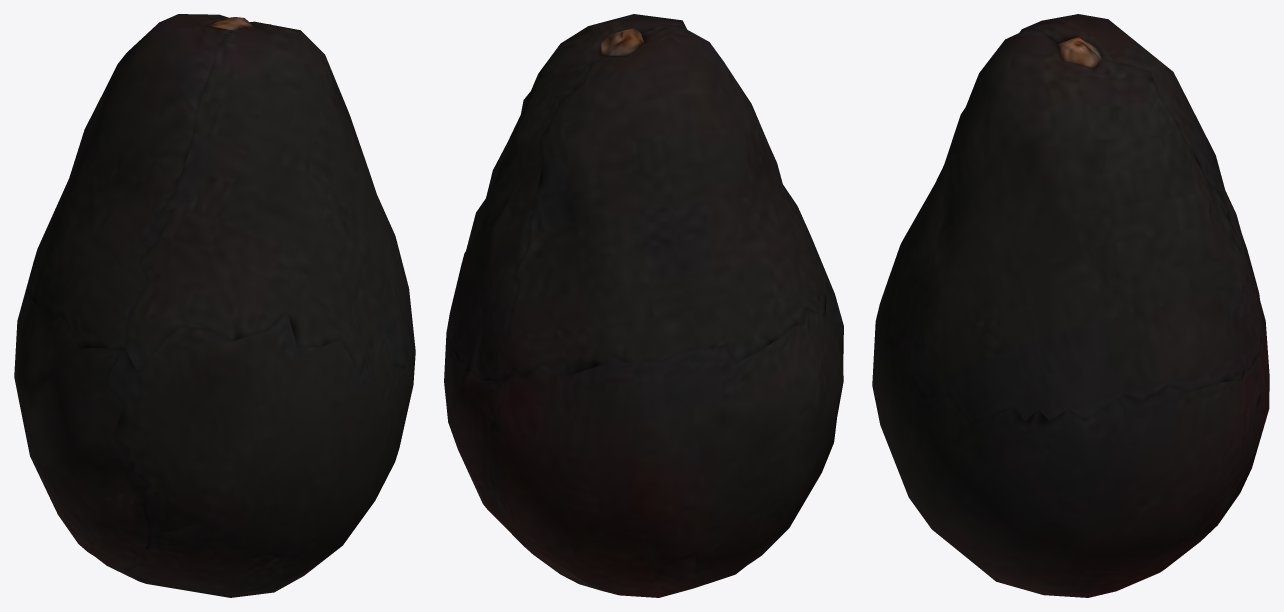
File: food_avocado_01.glb
3 views of the same model, side by side, from view 1: azimuth 30°, elevation 25°; view 2: azimuth 150°, elevation 25°; view 3: azimuth 270°, elevation 25° (orthographic). The views are drawn at different scales.
Parts seen in each view (by area): view 1: food_avocado_01; view 2: food_avocado_01; view 3: food_avocado_01.
Boxes of the visible parts, bbox=[...] form: food_avocado_01: bbox=[14, 14, 415, 597]; food_avocado_01: bbox=[444, 14, 843, 597]; food_avocado_01: bbox=[872, 14, 1269, 597].
Size of the model in its own units: 0.095 by 0.1432 by 0.0943.
1 material, 1 textured.
